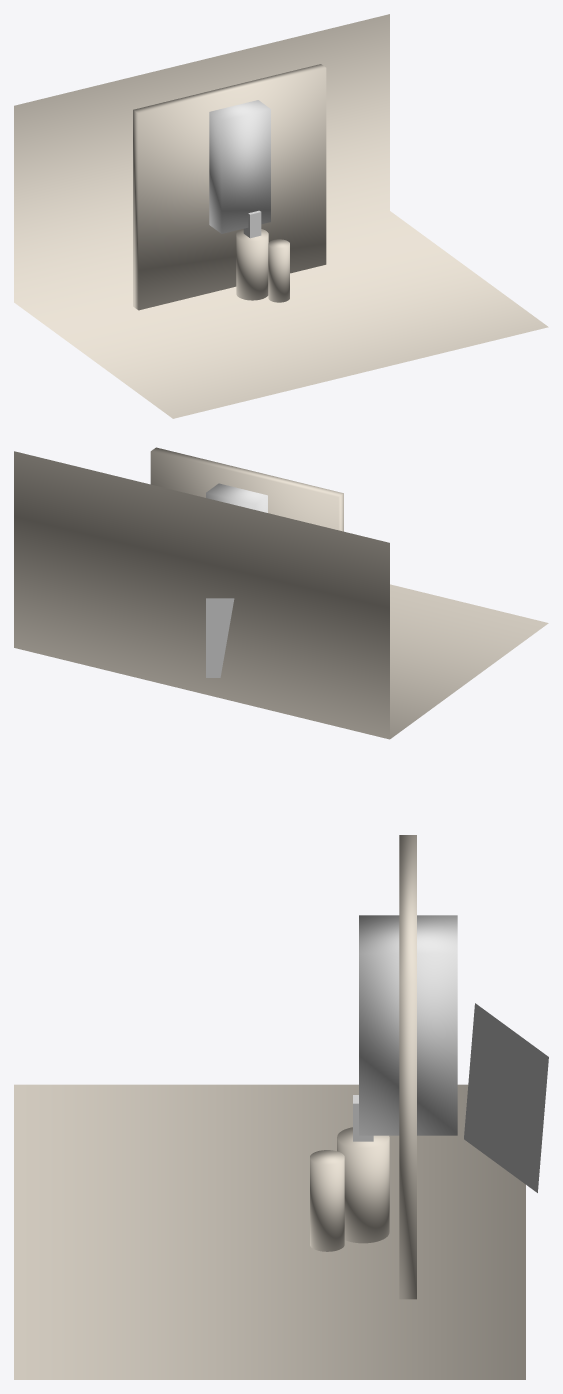
Rendered from white_podium_01.glb.
The picture shows the model from 3 angles, top to bottom: view 1: azimuth 30°, elevation 25°; view 2: azimuth 150°, elevation 25°; view 3: azimuth 270°, elevation 25°; orthographic projection. The views are drawn at different scales.
Parts seen in each view (by area): view 1: Floor & Wall, Plant, Cube, Podium1, Podium 2; view 2: Floor & Wall, Plant, background_plane, Cube; view 3: Floor & Wall, Cube, background_plane, Plant, Podium1, Podium 2.
Boxes of the visible parts, bbox=[...] form: Floor & Wall: bbox=[14, 14, 548, 418]; Plant: bbox=[133, 64, 326, 310]; Cube: bbox=[209, 100, 270, 233]; Podium1: bbox=[236, 229, 268, 300]; Podium 2: bbox=[268, 239, 289, 302]; Floor & Wall: bbox=[14, 451, 548, 739]; Plant: bbox=[150, 447, 343, 531]; background_plane: bbox=[206, 598, 234, 677]; Cube: bbox=[206, 483, 267, 512]; Floor & Wall: bbox=[14, 1084, 525, 1379]; Cube: bbox=[359, 915, 457, 1135]; background_plane: bbox=[464, 1003, 548, 1192]; Plant: bbox=[399, 835, 416, 1299]; Podium1: bbox=[337, 1127, 389, 1243]; Podium 2: bbox=[310, 1150, 344, 1251].
Bounding box in the file's own units: 2 × 1 × 1.53.
